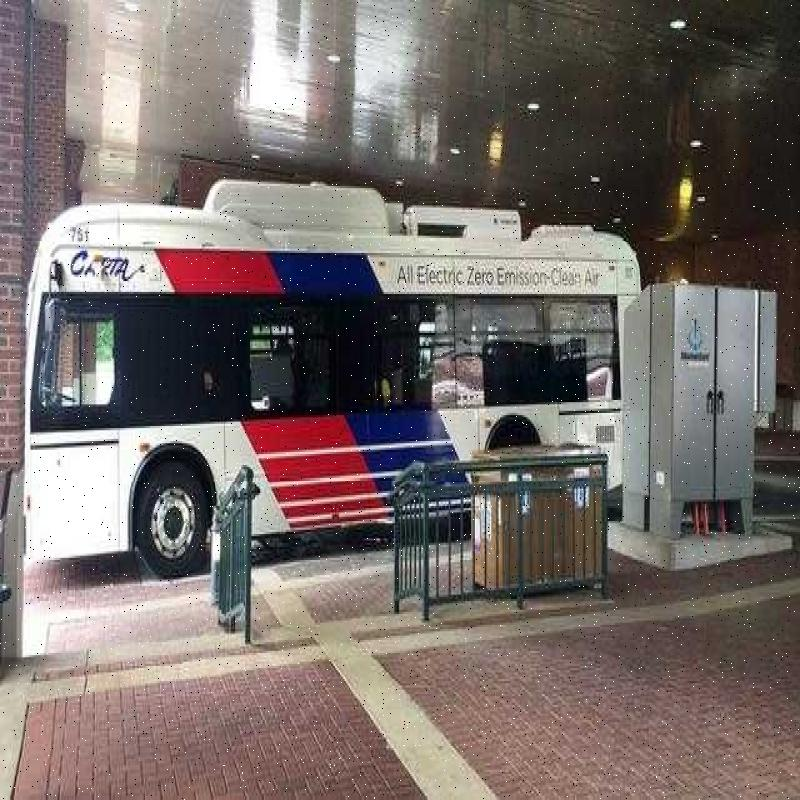bus: (17, 155, 676, 604)
